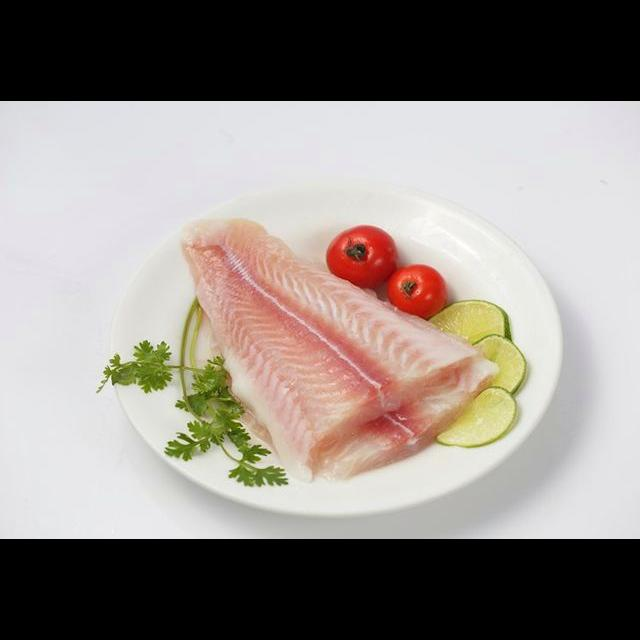fish: (171, 209, 513, 485)
